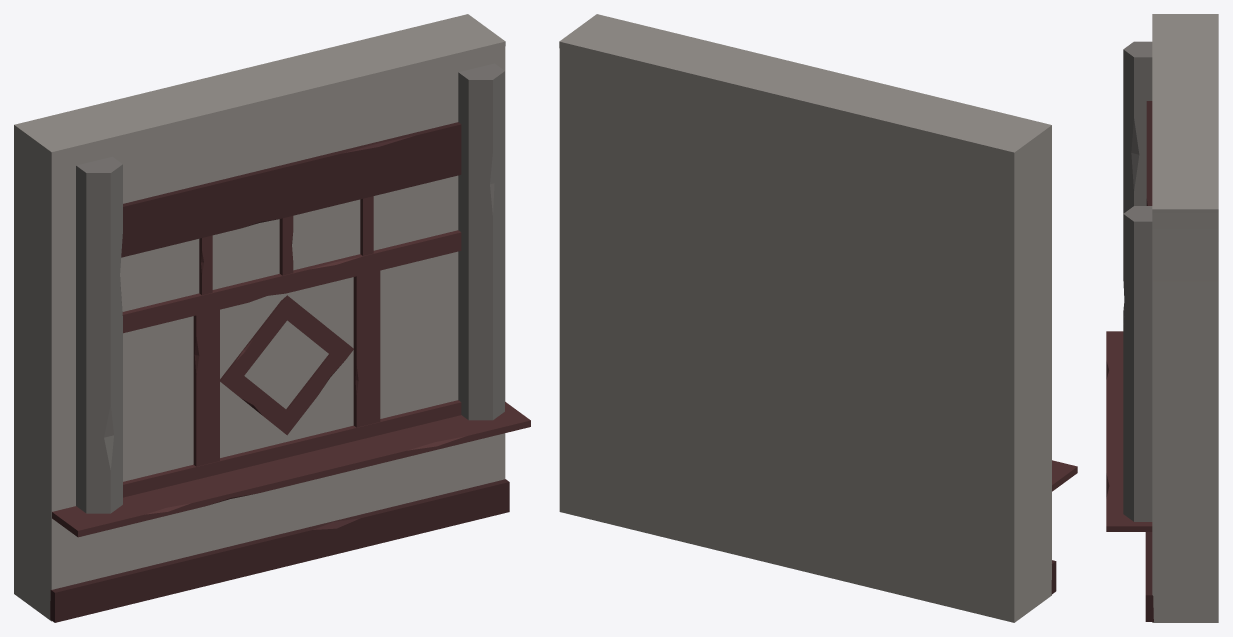
File: SM_Env_Wall_23.fbx
3 views of the same model, side by side, from view 1: azimuth 30°, elevation 25°; view 2: azimuth 150°, elevation 25°; view 3: azimuth 270°, elevation 25° (orthographic). The views are drawn at different scales.
Parts seen in each view (by area): view 1: SM_Env_Wall_23; view 2: SM_Env_Wall_23; view 3: SM_Env_Wall_23.
Boxes of the visible parts, x1=… form: SM_Env_Wall_23: x1=14, y1=14, x2=530, y2=622; SM_Env_Wall_23: x1=559, y1=14, x2=1077, y2=622; SM_Env_Wall_23: x1=1106, y1=14, x2=1218, y2=622.
Size of the model in its own units: 256 by 252 by 61.98.
Materials: 1 (1 with a texture image).
